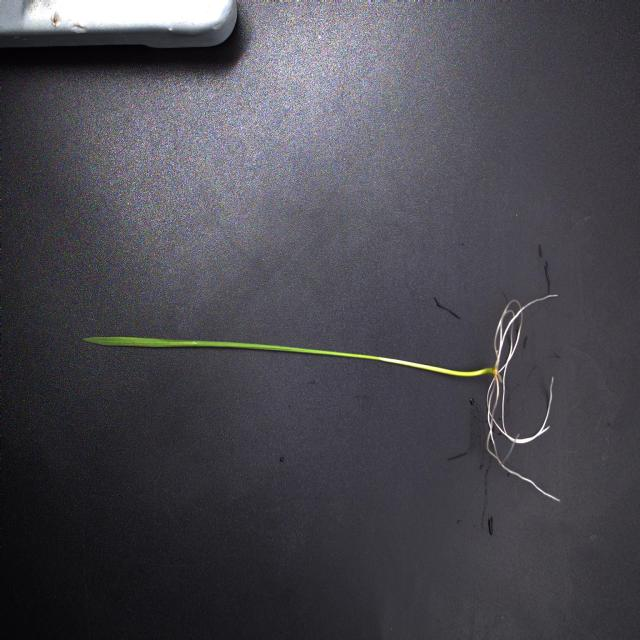leaf: (81, 335, 378, 362)
root: (485, 292, 562, 509)
stem: (378, 357, 494, 378)
